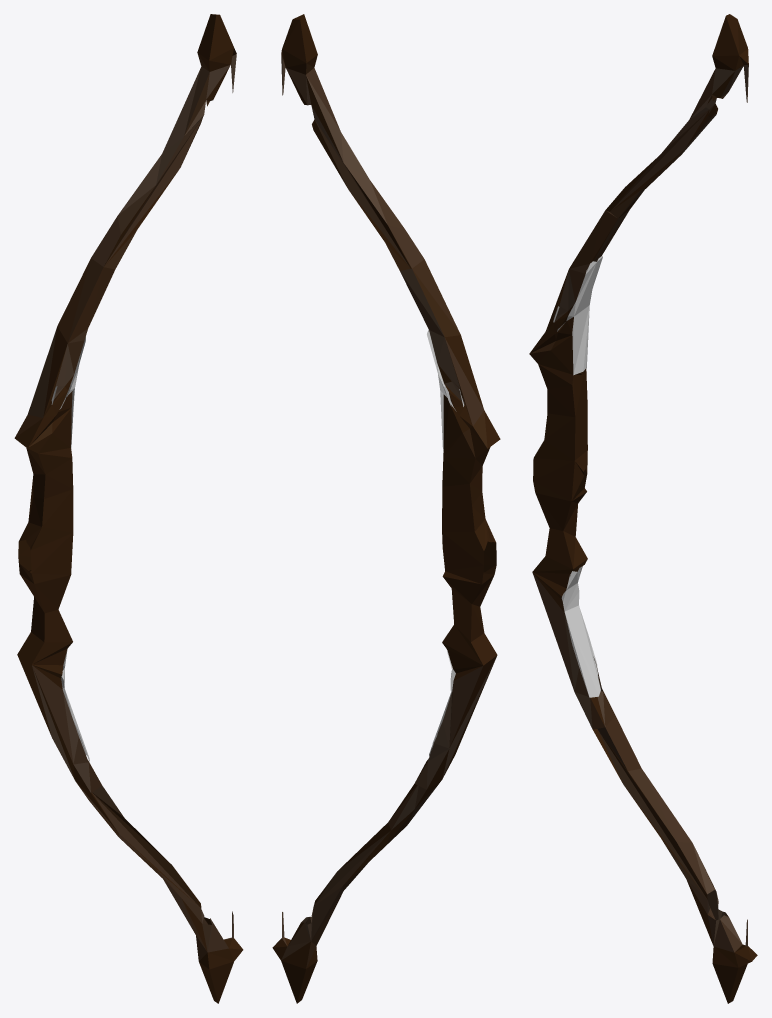
The model's file is aiwpn_huntbow_lo.glb.
The picture shows the model from 3 angles, left to right: view 1: azimuth 30°, elevation 25°; view 2: azimuth 150°, elevation 25°; view 3: azimuth 330°, elevation 25°; orthographic projection.
Parts seen in each view (by area): view 1: ca_aiwpn_huntbow_lo; view 2: ca_aiwpn_huntbow_lo; view 3: ca_aiwpn_huntbow_lo.
Boxes of the visible parts, box(x1,y1,x2,y2) form: ca_aiwpn_huntbow_lo: box(14, 14, 243, 1003); ca_aiwpn_huntbow_lo: box(272, 14, 500, 1003); ca_aiwpn_huntbow_lo: box(529, 14, 757, 1003).
Bounding box in the file's own units: 0.3301 × 1.42 × 0.0477.
